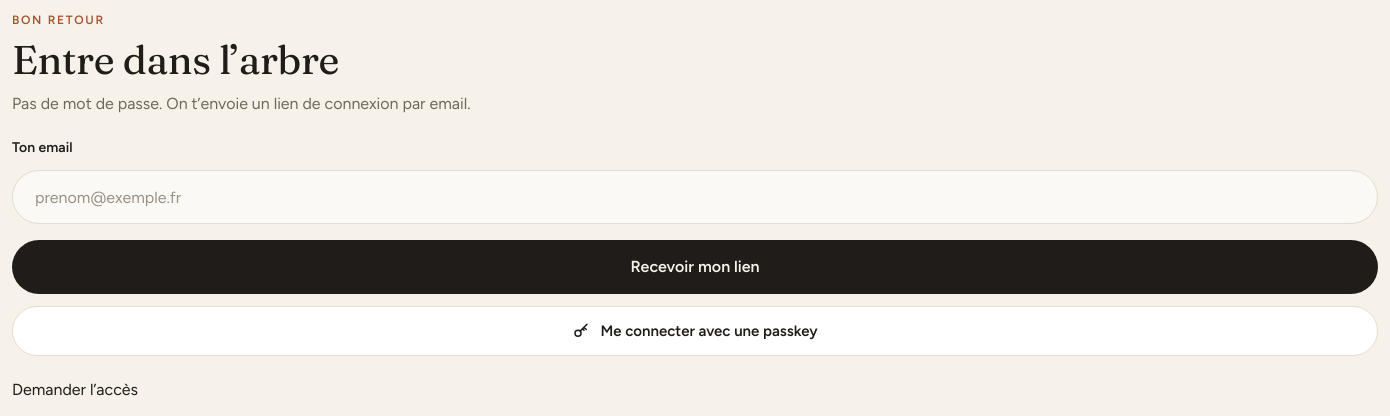
Test: LoginForm › ne montre le pied de l’étape email qu’à cette étape
expect the link "Demander l’accès" is shown: met, box [12,380,138,399]
Step 1. Type "luc@exemple.fr" into the field labelled "Ton email" → (695, 197), box [12,170,1378,224]
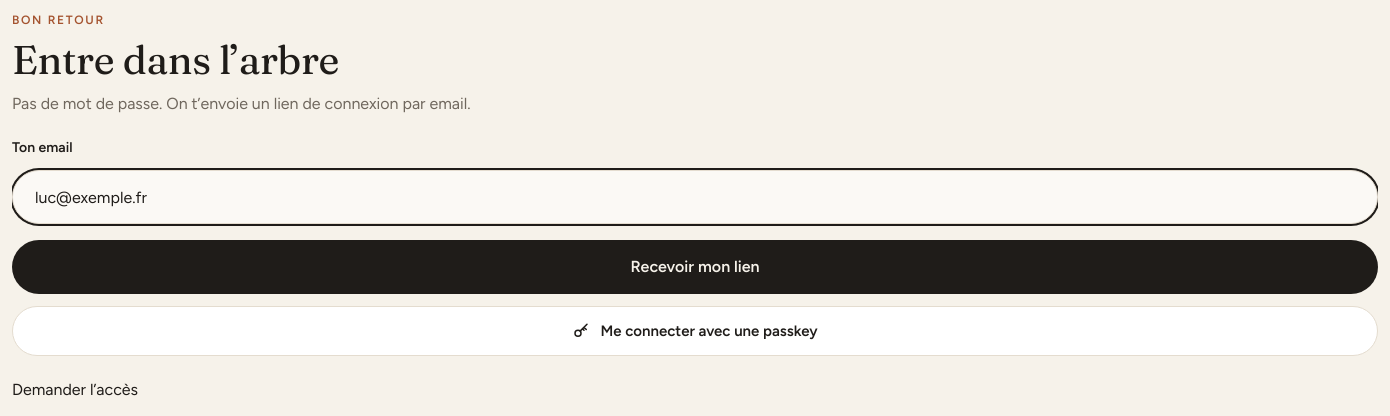
Step 2. Click the button "Recevoir mon lien" → click(695, 267), box [12,240,1378,294]
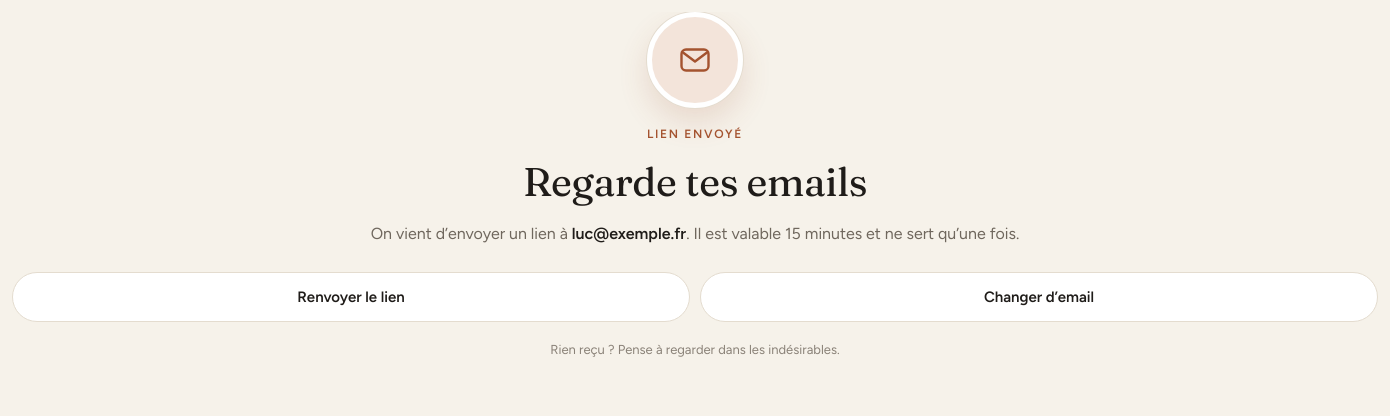
expect the link "Demander l’accès" is gone: met
